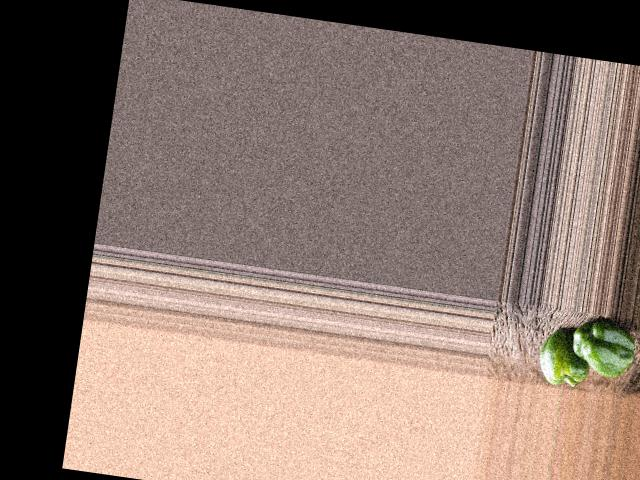bell_pepper: (565, 318, 637, 381)
